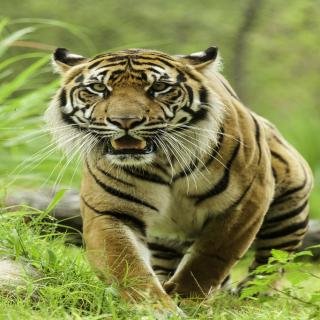Tiger: (2, 44, 314, 320)
